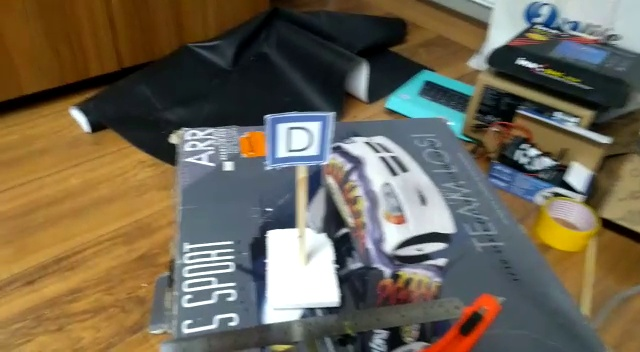durak: (268, 112, 332, 167)
